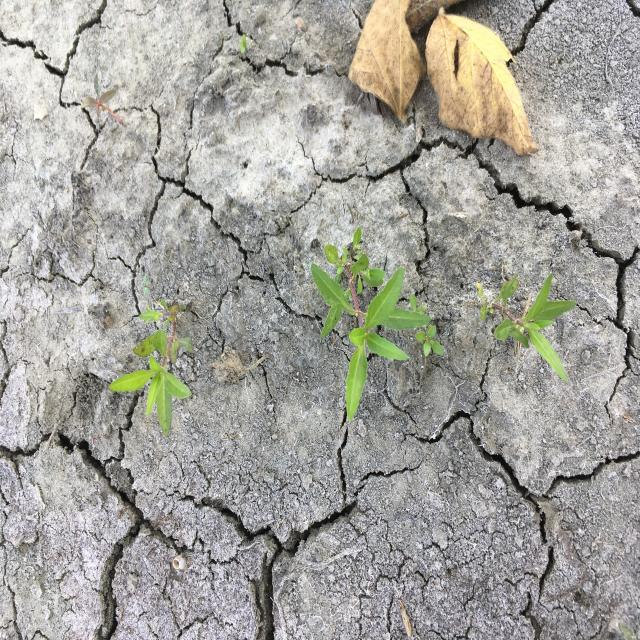Eclipta: (310, 224, 444, 422), (106, 297, 195, 439), (474, 270, 579, 384)
Waterhemp: (80, 72, 124, 126)
